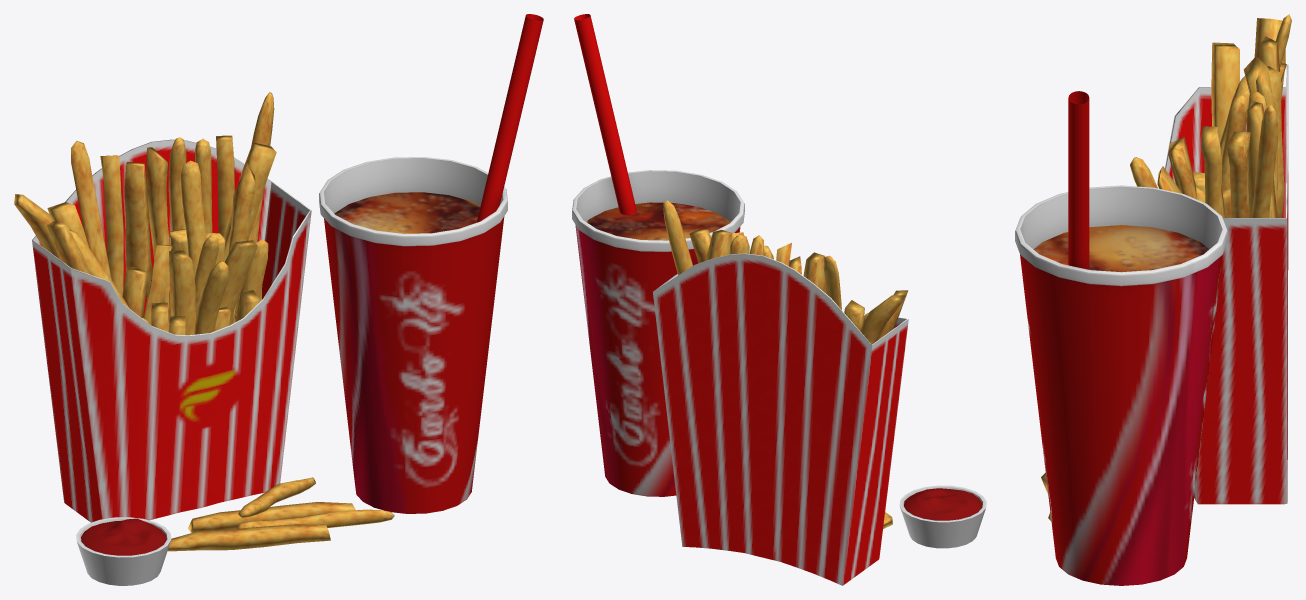
File: french-fries---free-bef538.glb
The picture shows the model from 3 angles, left to right: view 1: azimuth 30°, elevation 25°; view 2: azimuth 150°, elevation 25°; view 3: azimuth 270°, elevation 25°; orthographic projection. The views are drawn at different scales.
Visible parts, largest first — view 1: PropMesh; view 2: PropMesh; view 3: PropMesh.
Boxes of the visible parts, x1=… form: PropMesh: x1=14, y1=14, x2=543, y2=585; PropMesh: x1=572, y1=14, x2=986, y2=585; PropMesh: x1=1015, y1=14, x2=1291, y2=585.
Bounding box in the file's own units: 0.2245 × 0.22 × 0.1063.
Materials: 1 (1 with a texture image).
